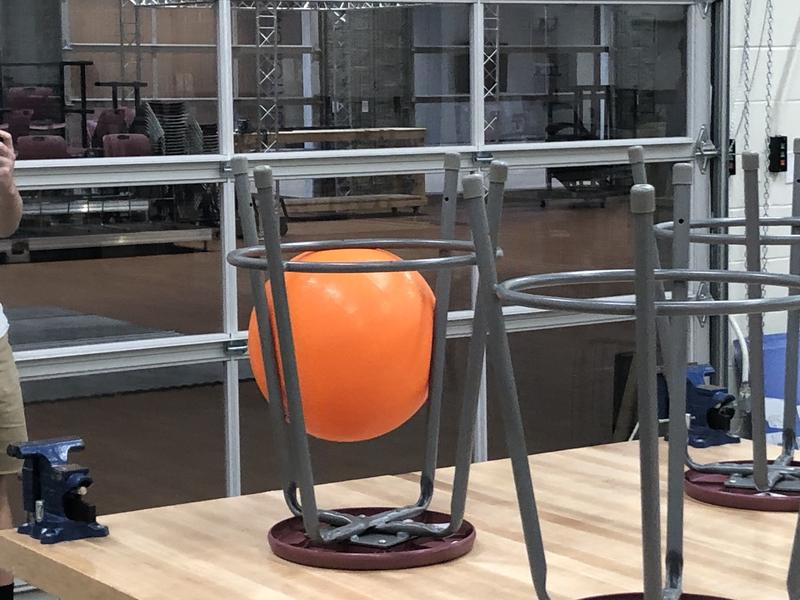ball: (254, 246, 435, 439)
